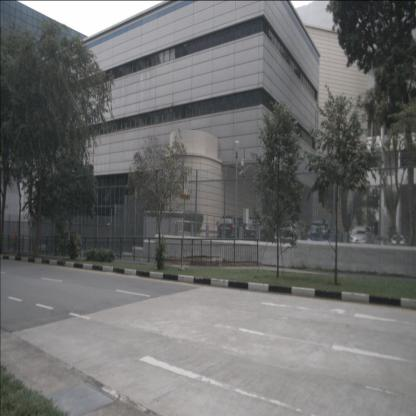vehicle-car: (274, 219, 311, 251), (217, 214, 251, 248), (306, 219, 342, 251), (245, 215, 278, 249), (348, 226, 374, 251), (391, 234, 405, 252)
